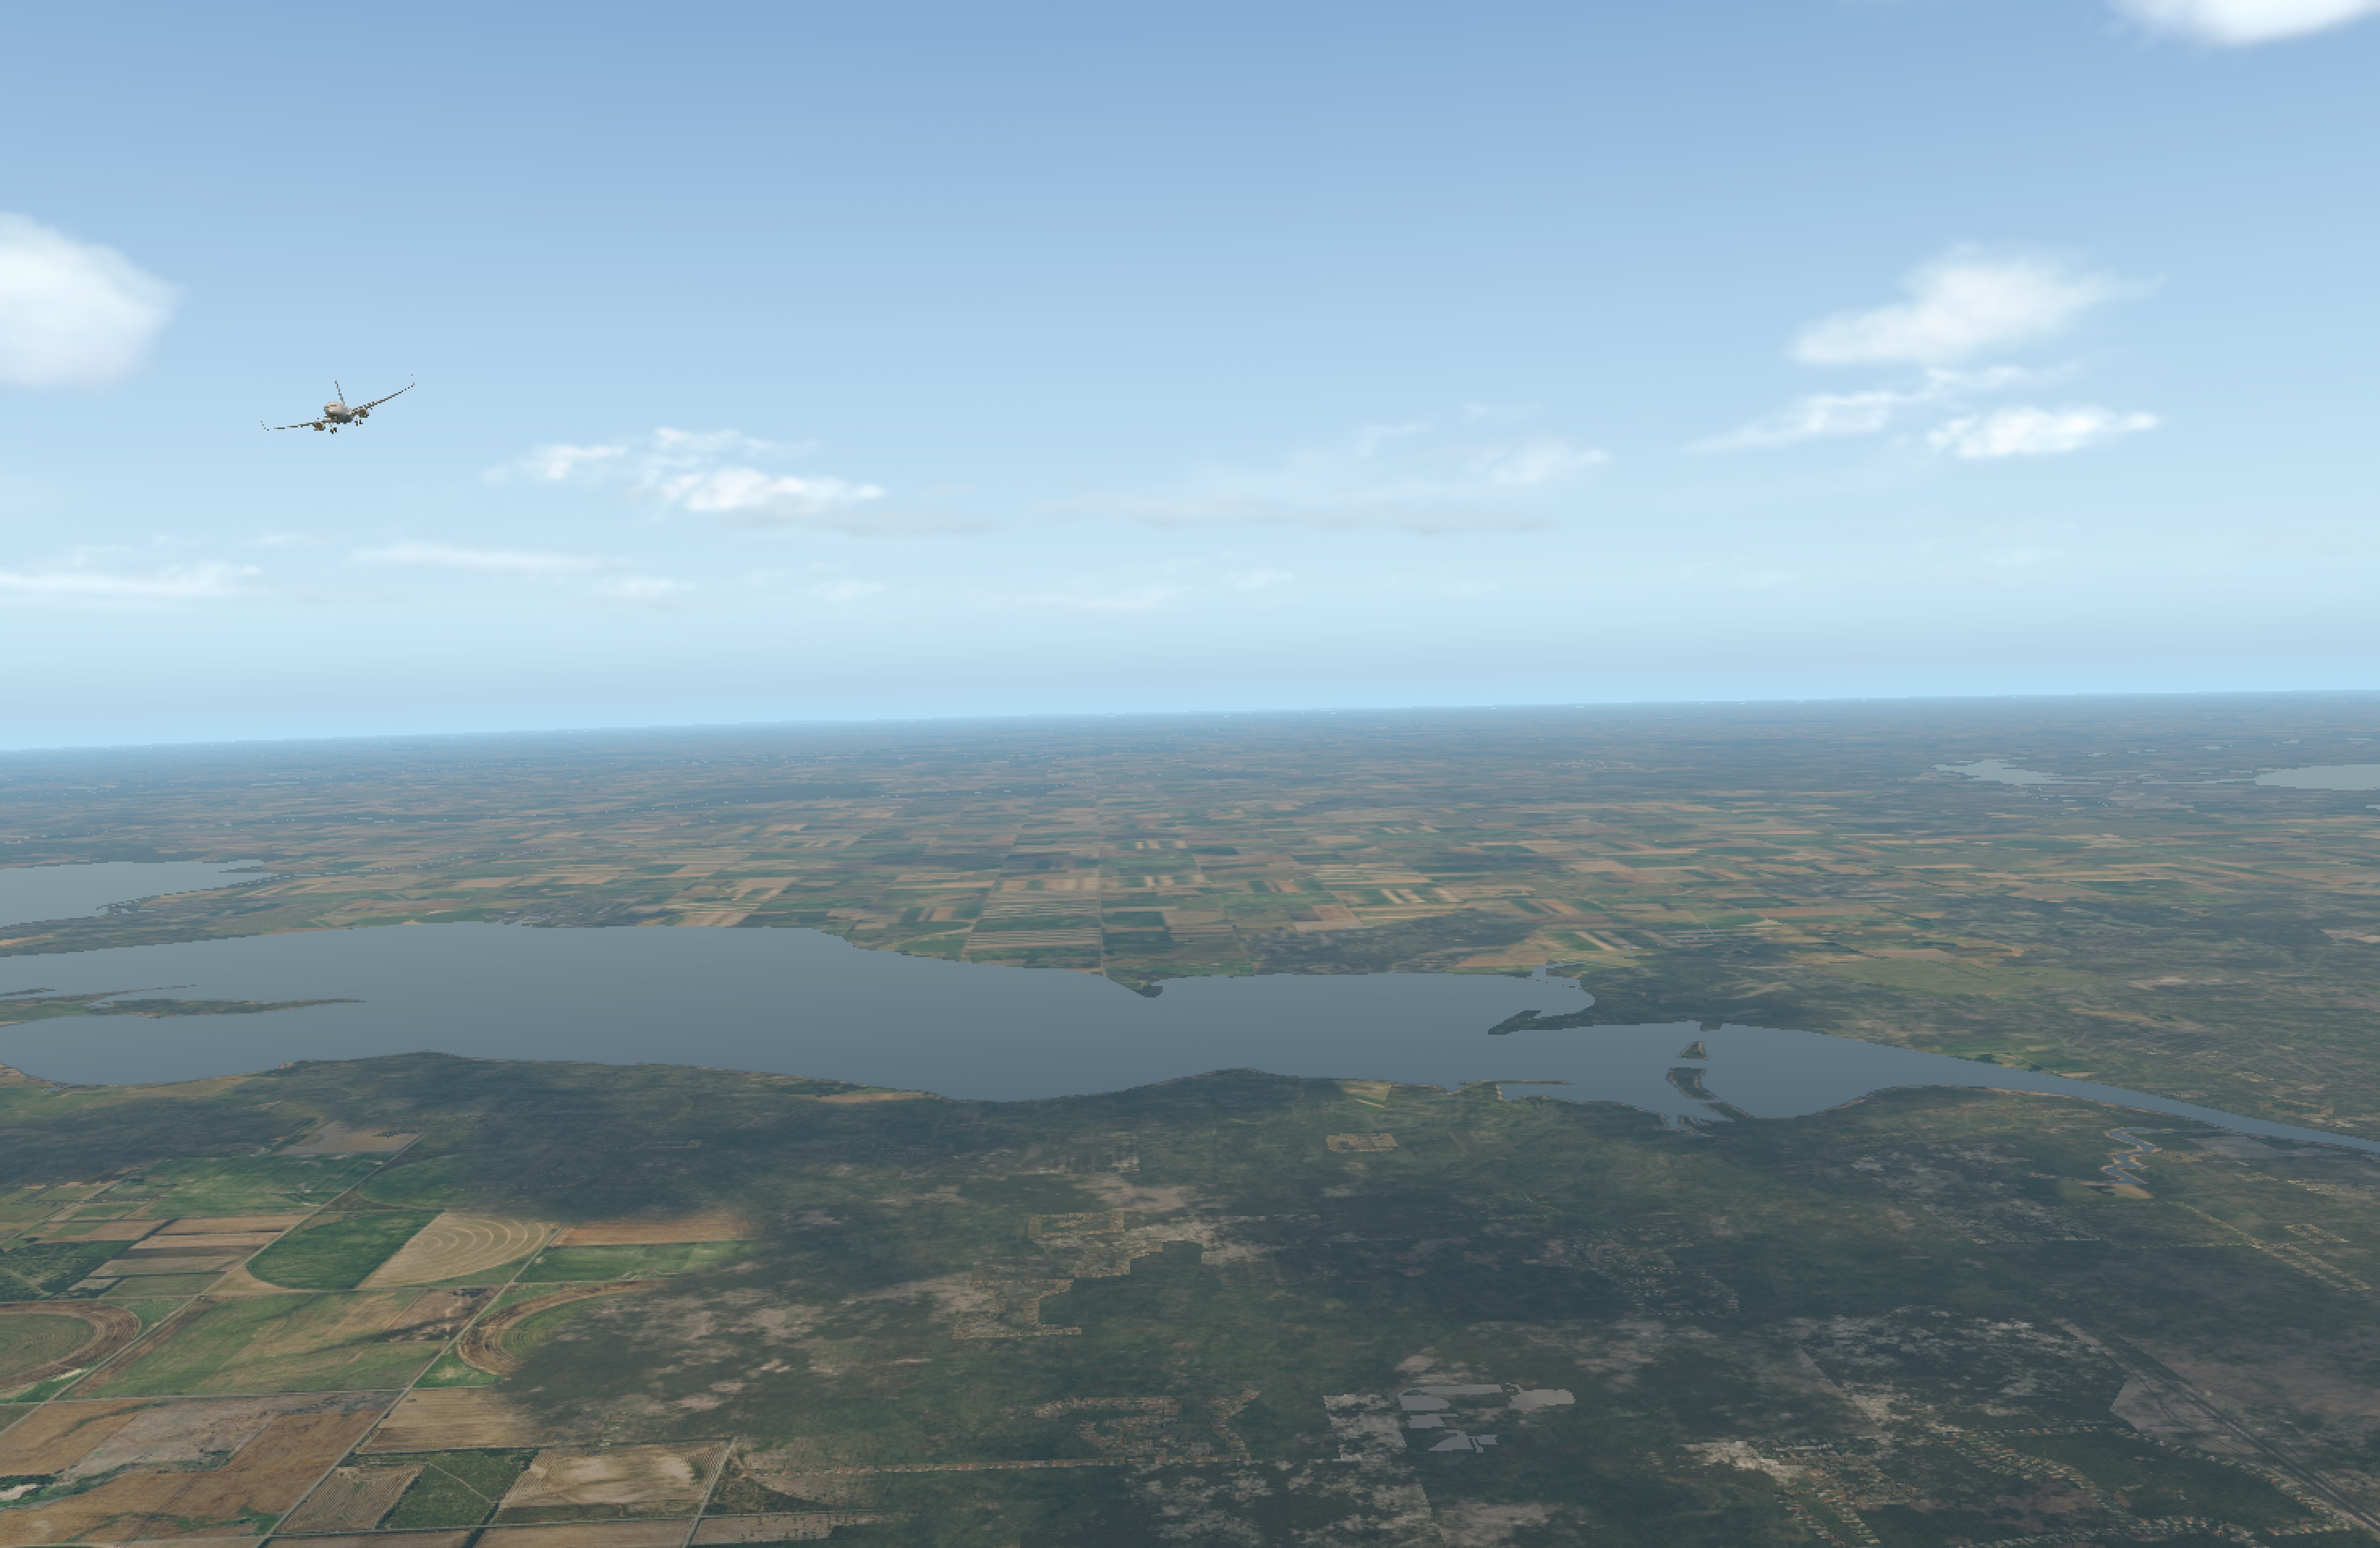aircraft: (262, 385, 420, 446)
